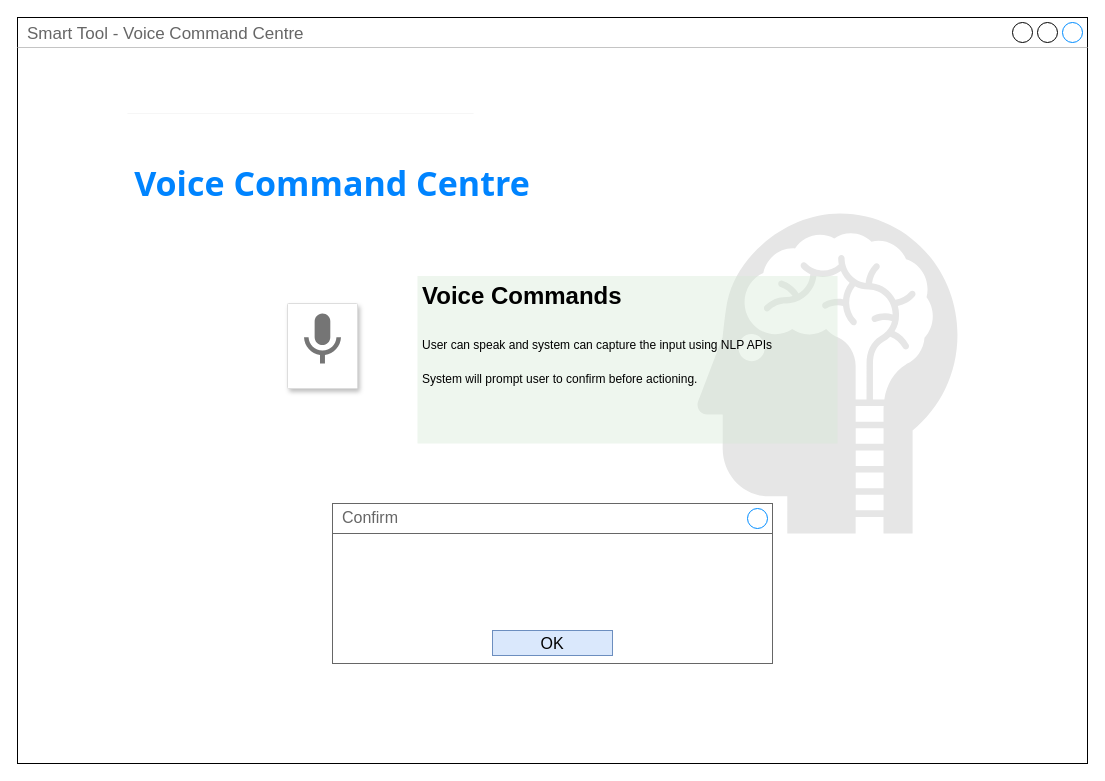
The diagram is 1105 pixels wide and 781 high, and some of its shapes have lost their labels. The centre of each missing label's shape, as x and y in pixels:
Listen: point (323, 347)
Open HR Portal to update my contact details: point (552, 583)
